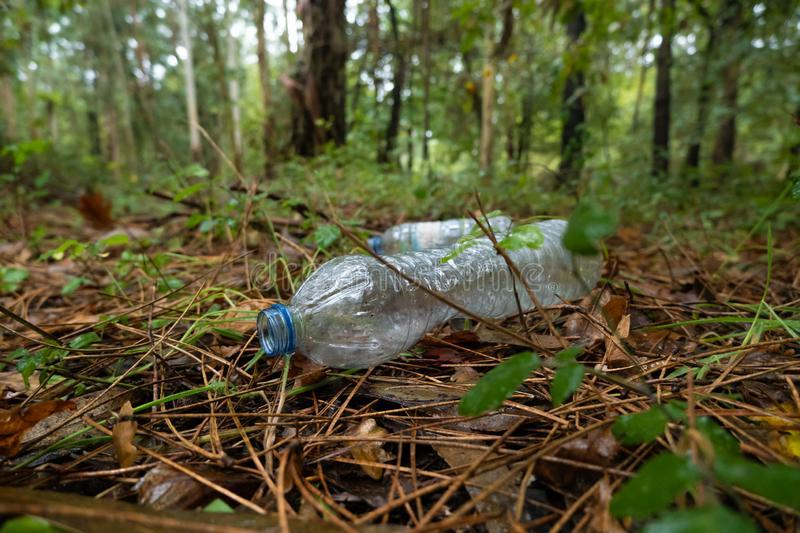bottle: (236, 199, 616, 387)
